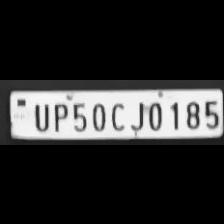0: (144, 97, 164, 128), (89, 100, 107, 130)
1: (164, 98, 182, 130)
5: (200, 97, 222, 129), (68, 99, 88, 131)
8: (182, 97, 200, 128)
C: (108, 99, 127, 131)
J: (127, 98, 145, 130)
P: (50, 99, 68, 130)
U: (29, 99, 51, 130)
